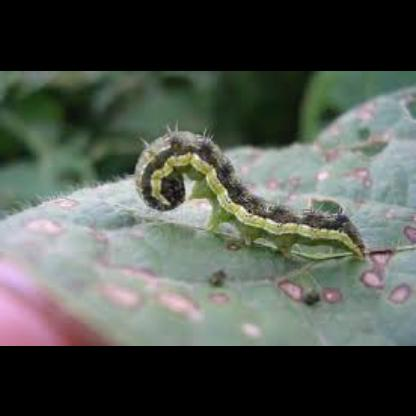oruga: (132, 118, 368, 262)
